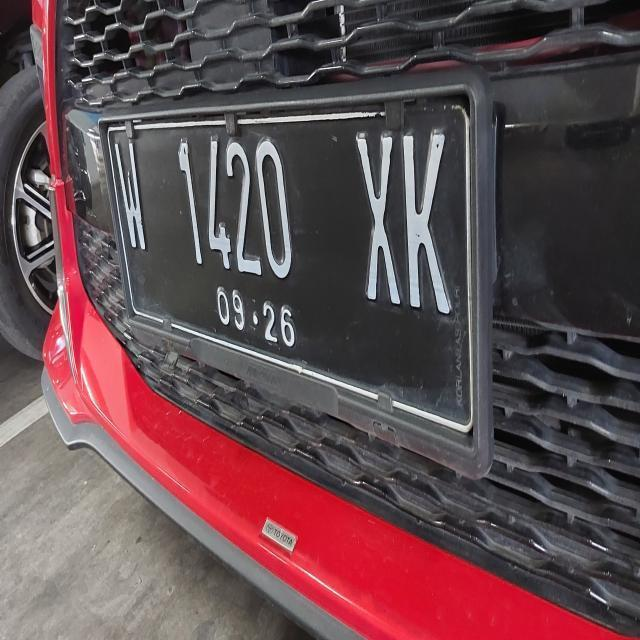0: (250, 117, 304, 284)
1: (170, 123, 208, 278)
2: (220, 121, 268, 292)
4: (200, 112, 238, 286)
K: (396, 108, 466, 344)
W: (99, 122, 162, 265)
X: (336, 112, 408, 322)
